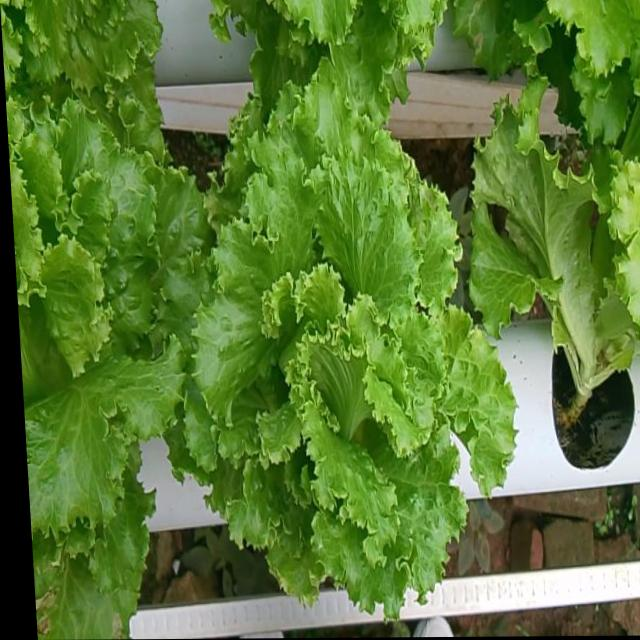Mature: (190, 78, 524, 617), (10, 100, 214, 543)
